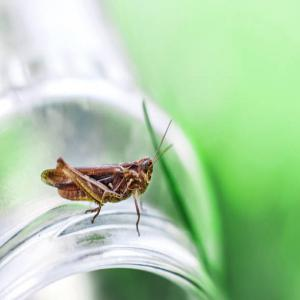locust: (40, 115, 177, 241)
